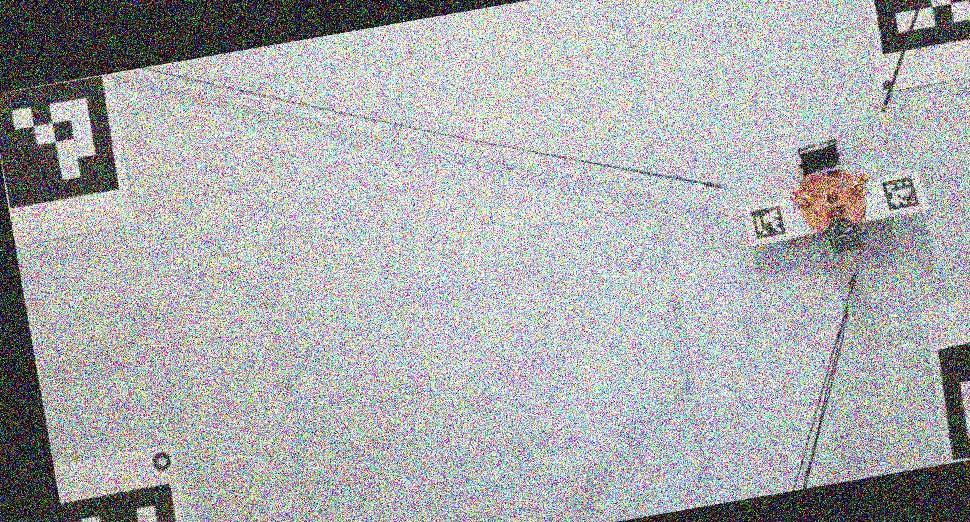obstacle: (790, 139, 869, 253)
